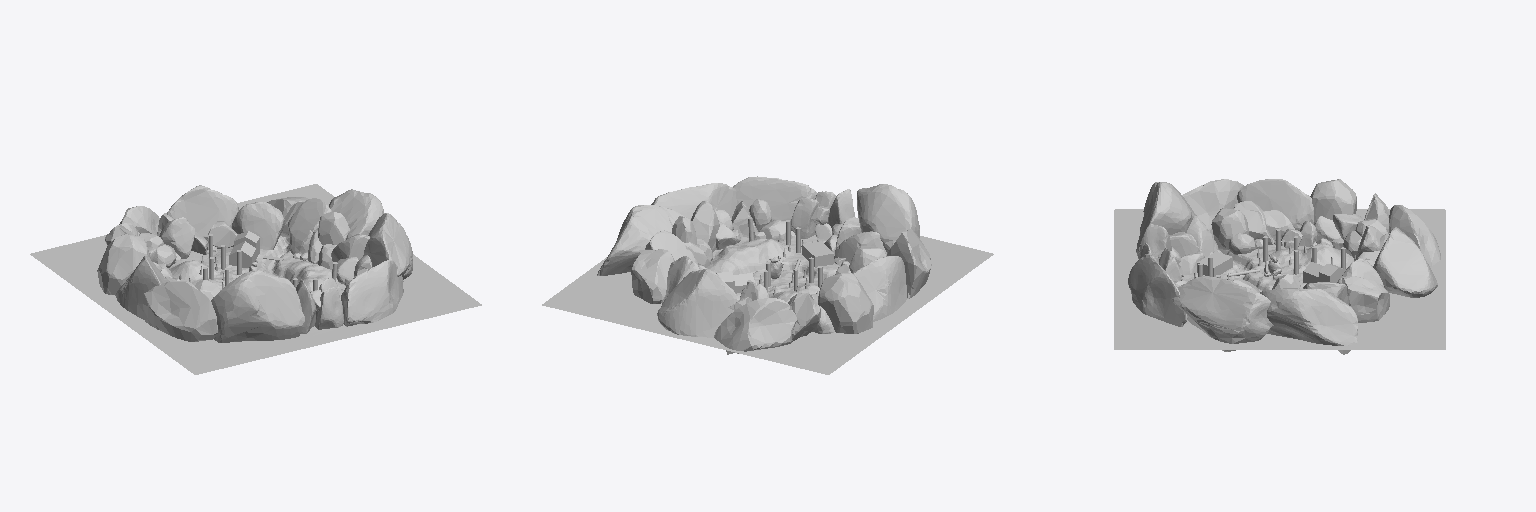
The model's file is collision-map.obj.
3 views of the same model, side by side, from view 1: azimuth 30°, elevation 25°; view 2: azimuth 150°, elevation 25°; view 3: azimuth 270°, elevation 25° (orthographic).
Visible parts, largest first — view 1: ground.001; view 2: ground.001; view 3: ground.001.
Part boxes in pixels (x1,y1,x2,y2): ground.001: (30,184,481,374); ground.001: (542,176,993,374); ground.001: (1114,179,1445,354).
Size of the model in its own units: 107 by 30.25 by 107.